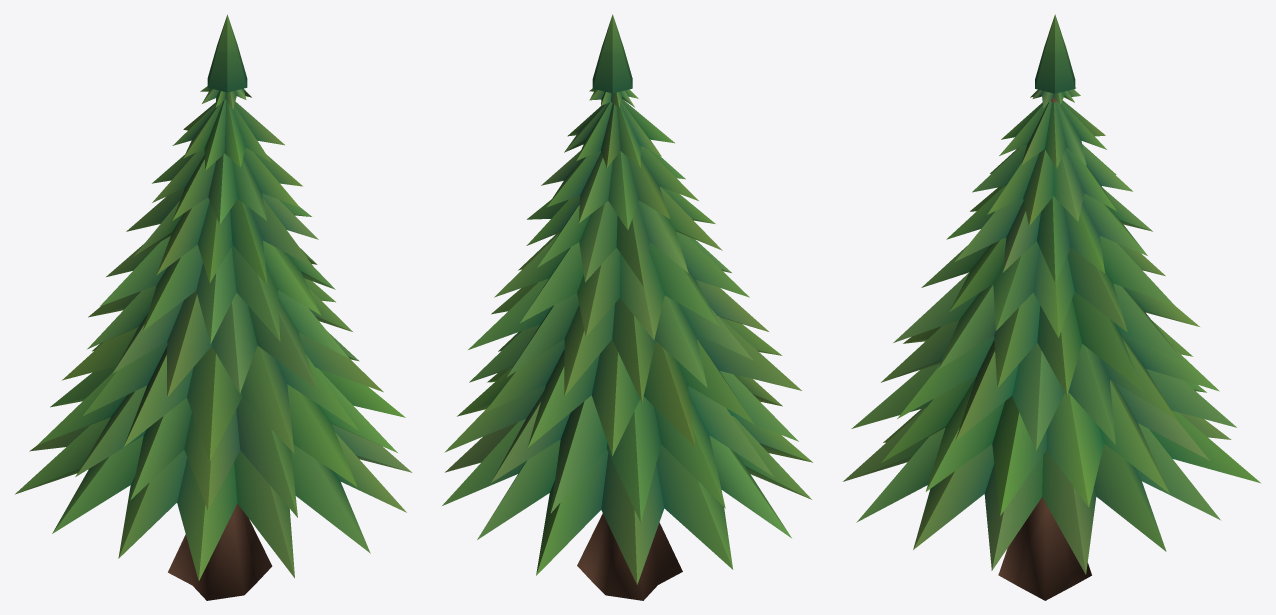
The model's file is f_pine0.glb.
3 renders of one model, left to right at view 1: azimuth 30°, elevation 25°; view 2: azimuth 150°, elevation 25°; view 3: azimuth 270°, elevation 25°, orthographic.
Parts seen in each view (by area): view 1: pine0; view 2: pine0; view 3: pine0.
Part boxes in pixels (x1,y1,x2,y2): pine0: [15, 14, 412, 600]; pine0: [442, 14, 812, 600]; pine0: [843, 14, 1260, 600].
Size of the model in its own units: 5.02 by 8.1 by 5.43.
